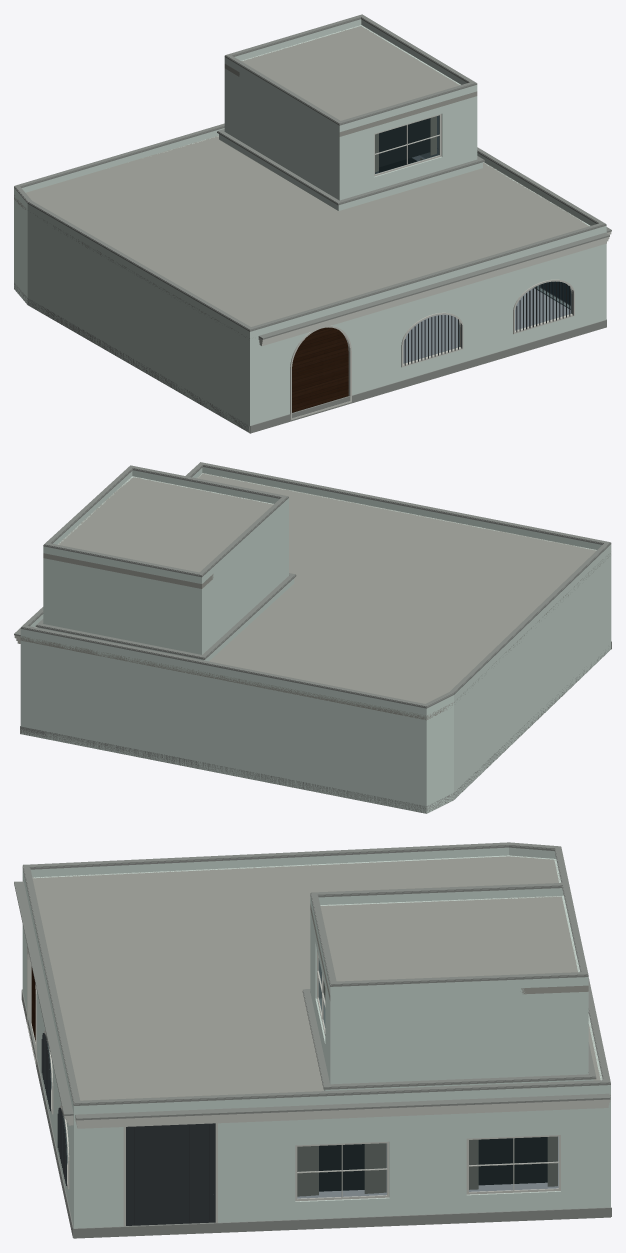
Rendered from building.glb.
3 renders of one model, top to bottom at view 1: azimuth 30°, elevation 25°; view 2: azimuth 150°, elevation 25°; view 3: azimuth 270°, elevation 25°, orthographic. The views are drawn at different scales.
Parts seen in each view (by area): view 1: roof/house:0/roof_slab#0001, house:0/edge0/z0/house:0/edge0/z0/wall_0_0, roof/upper:0/roof_slab#0001, upper:0/edge0/z3.6/upper:0/edge0/z3.6/wall_0_0, roof/house:0/parapet#0001, upper:0/edge1/z3.6/upper:0/edge1/z3.6/wall_0_0, house:0/edge2/z0/opening_u1.36_v0.05/door_panel#0001, roof/house:0/parapet_cap#0002, roof/upper:0/parapet#0001, house:0/edge2/z0/plinth#0001, upper:0/edge1/z3.6/opening_u1.47_v0.80/glazing#0001, roof/house:0/parapet_cap#0001 (+33 smaller); view 2: roof/house:0/roof_slab#0001, house:0/edge4/z0/house:0/edge4/z0/wall_0_0, house:0/edge0/z0/house:0/edge0/z0/wall_0_0, roof/upper:0/roof_slab#0001, upper:0/edge3/z3.6/upper:0/edge3/z3.6/wall_0_0, roof/house:0/parapet#0001, upper:0/edge0/z3.6/upper:0/edge0/z3.6/wall_0_0, roof/house:0/parapet_cap#0002, roof/upper:0/parapet#0001, house:0/edge5/z0/house:0/edge5/z0/wall_0_0, house:0/edge4/z0/plinth#0001, roof/house:0/parapet_cap#0001 (+6 smaller); view 3: roof/house:0/roof_slab#0001, house:0/edge3/z0/house:0/edge3/z0/wall_0_0/core0, upper:0/edge2/z3.6/upper:0/edge2/z3.6/wall_0_0, roof/upper:0/roof_slab#0001, roof/house:0/parapet#0001, house:0/edge3/z0/opening_u1.32_v0.05/door_leaf#0001, roof/house:0/parapet_cap#0002, house:0/edge3/z0/plinth#0001, roof/upper:0/parapet#0001, house:0/edge3/z0/opening_u5.87_v0.80/glazing#0001, house:0/edge3/z0/opening_u10.42_v0.80/glazing#0001, roof/house:0/parapet_cap#0001 (+20 smaller).
Part boxes in pixels (box(x1,y1,x2,y2)): roof/house:0/roof_slab#0001: box(14, 135, 588, 338); house:0/edge0/z0/house:0/edge0/z0/wall_0_0: box(27, 210, 249, 432); roof/upper:0/roof_slab#0001: box(224, 26, 477, 136); upper:0/edge0/z3.6/upper:0/edge0/z3.6/wall_0_0: box(224, 68, 344, 200); roof/house:0/parapet#0001: box(14, 128, 606, 338); upper:0/edge1/z3.6/upper:0/edge1/z3.6/wall_0_0: box(336, 96, 477, 199); house:0/edge2/z0/opening_u1.36_v0.05/door_panel#0001: box(292, 327, 348, 412); roof/house:0/parapet_cap#0002: box(14, 123, 605, 330); roof/upper:0/parapet#0001: box(224, 19, 477, 132); house:0/edge2/z0/plinth#0001: box(258, 320, 606, 430); upper:0/edge1/z3.6/opening_u1.47_v0.80/glazing#0001: box(375, 115, 439, 173); roof/house:0/parapet_cap#0001: box(14, 126, 606, 331); roof/house:0/roof_slab#0001: box(20, 473, 610, 720); house:0/edge4/z0/house:0/edge4/z0/wall_0_0: box(20, 636, 426, 813); house:0/edge0/z0/house:0/edge0/z0/wall_0_0: box(454, 551, 611, 799); roof/upper:0/roof_slab#0001: box(43, 477, 273, 588); upper:0/edge3/z3.6/upper:0/edge3/z3.6/wall_0_0: box(43, 558, 202, 653); roof/house:0/parapet#0001: box(20, 467, 611, 715); upper:0/edge0/z3.6/upper:0/edge0/z3.6/wall_0_0: box(196, 505, 288, 654); roof/house:0/parapet_cap#0002: box(21, 462, 610, 706); roof/upper:0/parapet#0001: box(43, 470, 288, 583); house:0/edge5/z0/house:0/edge5/z0/wall_0_0: box(426, 702, 453, 813); house:0/edge4/z0/plinth#0001: box(20, 726, 426, 813); roof/house:0/parapet_cap#0001: box(20, 465, 611, 708); roof/house:0/roof_slab#0001: box(23, 855, 610, 1100); house:0/edge3/z0/house:0/edge3/z0/wall_0_0/core0: box(74, 1093, 610, 1228); upper:0/edge2/z3.6/upper:0/edge2/z3.6/wall_0_0: box(329, 988, 588, 1083); roof/upper:0/roof_slab#0001: box(310, 896, 588, 1000); roof/house:0/parapet#0001: box(22, 847, 610, 1114); house:0/edge3/z0/opening_u1.32_v0.05/door_leaf#0001: box(126, 1123, 215, 1225); roof/house:0/parapet_cap#0002: box(23, 842, 610, 1103); house:0/edge3/z0/plinth#0001: box(74, 1207, 610, 1238); roof/upper:0/parapet#0001: box(310, 888, 588, 995); house:0/edge3/z0/opening_u5.87_v0.80/glazing#0001: box(297, 1143, 386, 1198); house:0/edge3/z0/opening_u10.42_v0.80/glazing#0001: box(469, 1136, 558, 1191); roof/house:0/parapet_cap#0001: box(22, 845, 610, 1105).
Bounding box in the file's own units: 16.6 × 6.82 × 15.79.
Materials: 9 (1 with a texture image).
